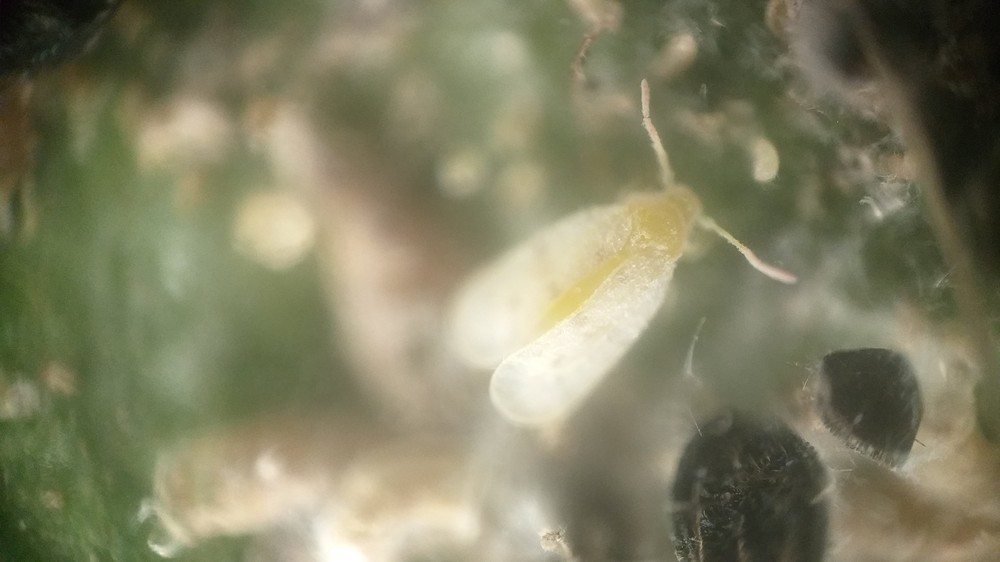Mosca Blanca: (432, 81, 804, 436)
